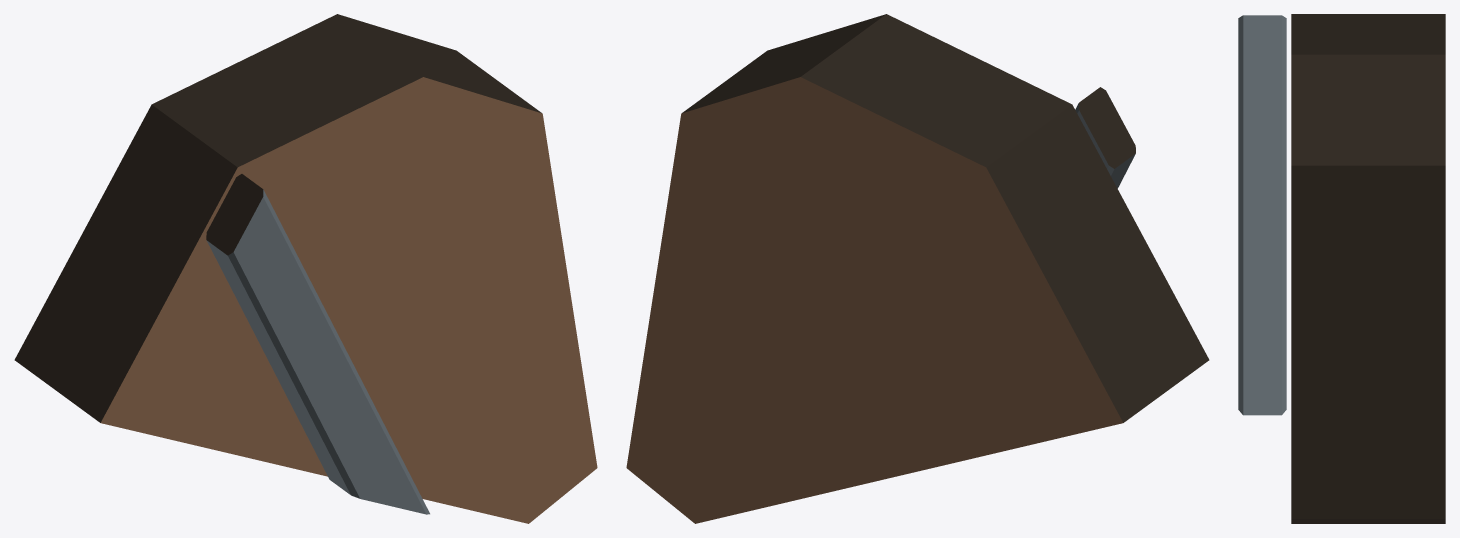
The model's file is SM_DoorShard_02_33.fbx.
3 views of the same model, side by side, from view 1: azimuth 30°, elevation 25°; view 2: azimuth 150°, elevation 25°; view 3: azimuth 270°, elevation 25° (orthographic). The views are drawn at different scales.
Parts seen in each view (by area): view 1: SM_DoorShard_02_33; view 2: SM_DoorShard_02_33; view 3: SM_DoorShard_02_33.
Part boxes in pixels (box(x1,y1,x2,y2)): SM_DoorShard_02_33: box(14, 14, 597, 523); SM_DoorShard_02_33: box(626, 14, 1209, 523); SM_DoorShard_02_33: box(1238, 14, 1445, 523).
Bounding box in the file's own units: 53.33 × 21.5 × 48.46.
